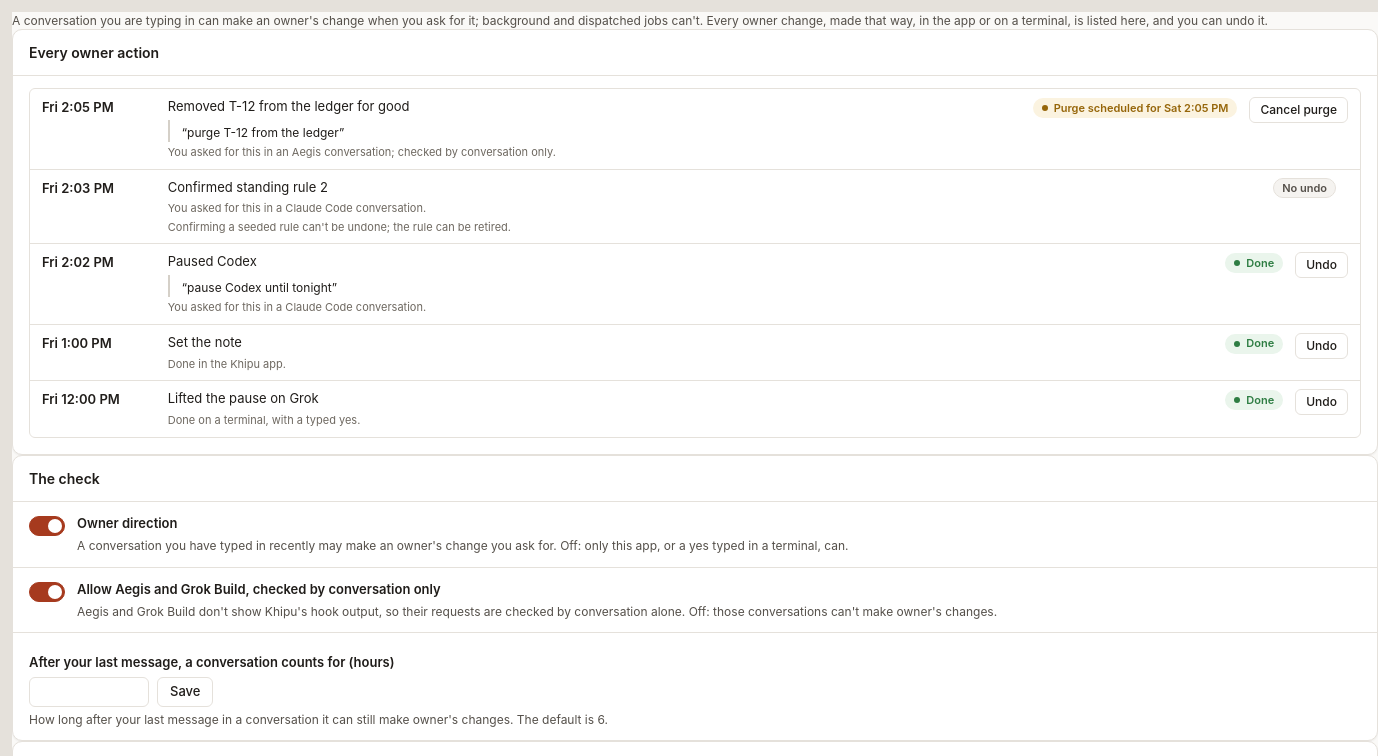
Owner actions › an Undo refused over a newer change says so and offers a labelled second confirm
The width and height of the screenshot is (1378, 756).
Click the button with aria-label "Undo: Paused Codex".
click(1322, 265)  # box top-left (1295, 252), bottom-right (1348, 278)
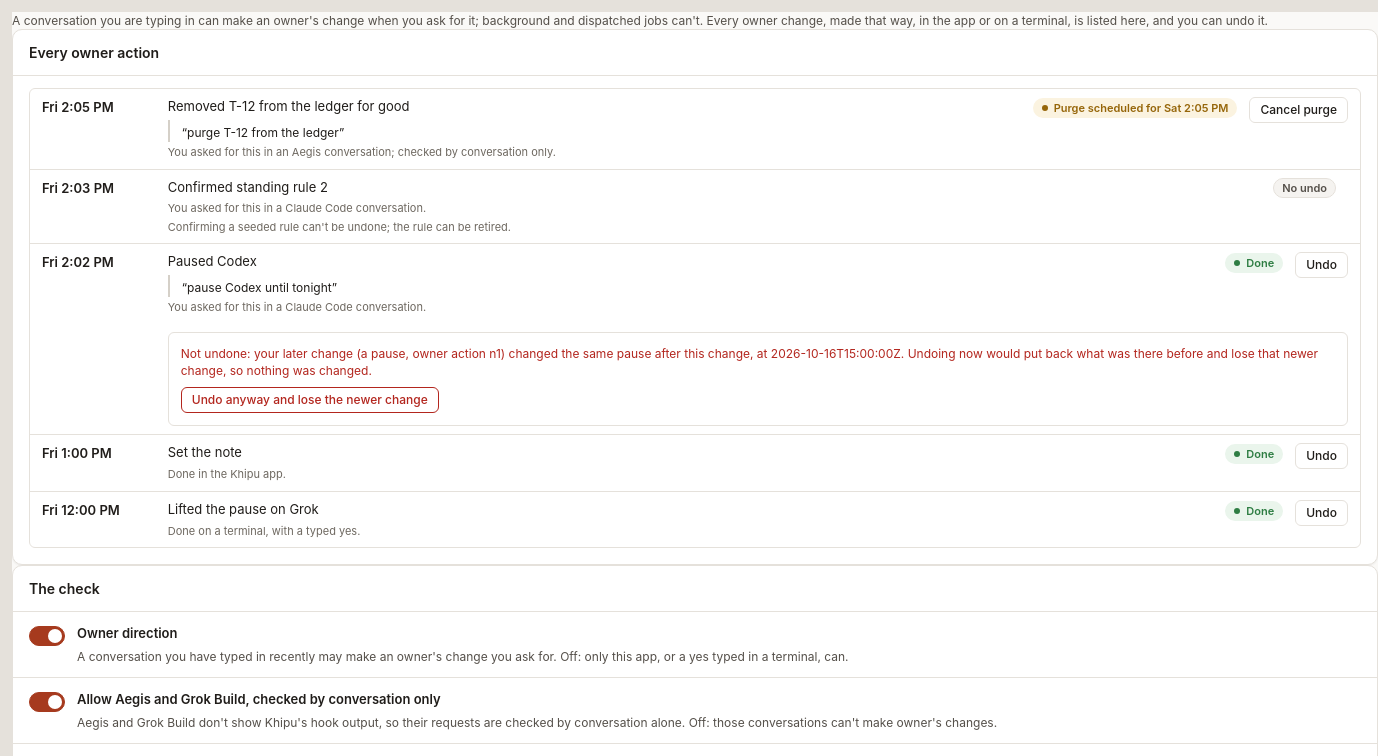
Now the message shows "your later change (a pause, owner action n1)", box top-left (181, 346), bottom-right (1318, 378)
Now the message shows "2026-10-16T15:00:00Z", box top-left (181, 346), bottom-right (1318, 378)
Now the message shows "nothing was changed", box top-left (181, 346), bottom-right (1318, 378)
Click the button with aria-label "Undo anyway and lose the newer change: Paused Codex".
click(310, 400)  # box top-left (181, 387), bottom-right (439, 413)
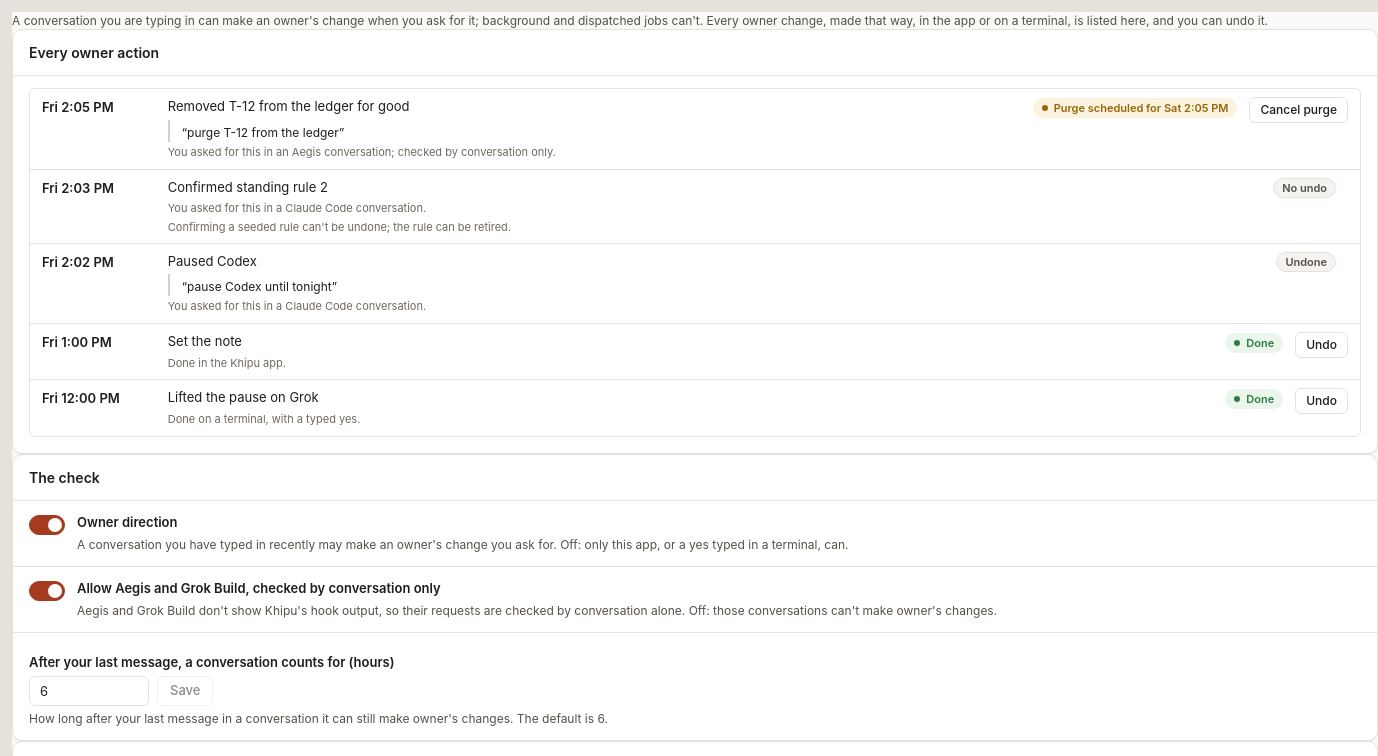
Now the text "Undone" is shown, box top-left (1276, 252), bottom-right (1336, 272)
Now the button "Undo anyway" is gone
